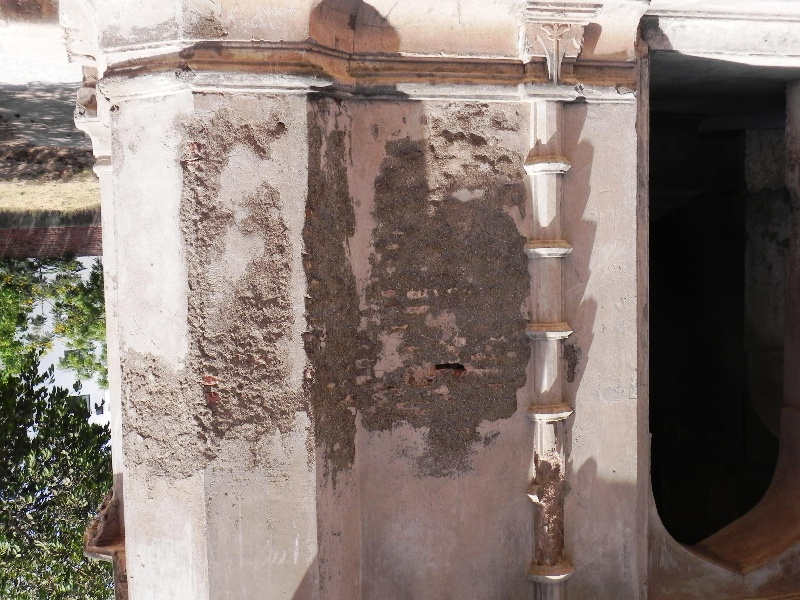Spalling: (365, 116, 524, 480), (160, 105, 313, 476)
